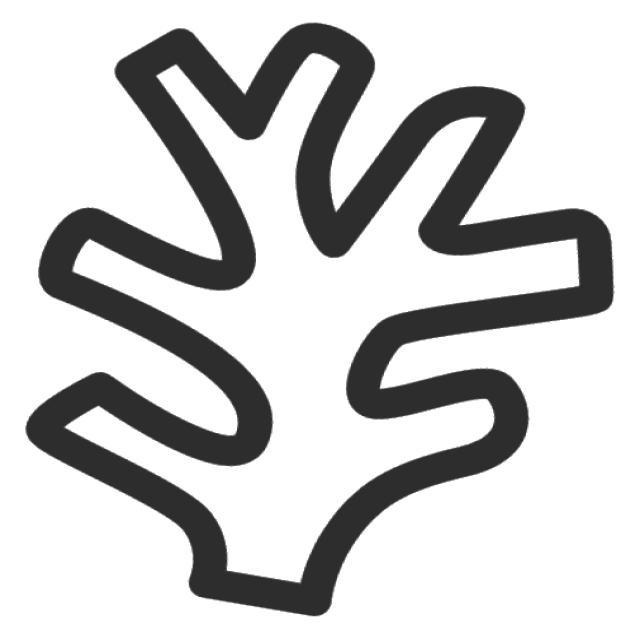coral: (11, 10, 630, 636)
